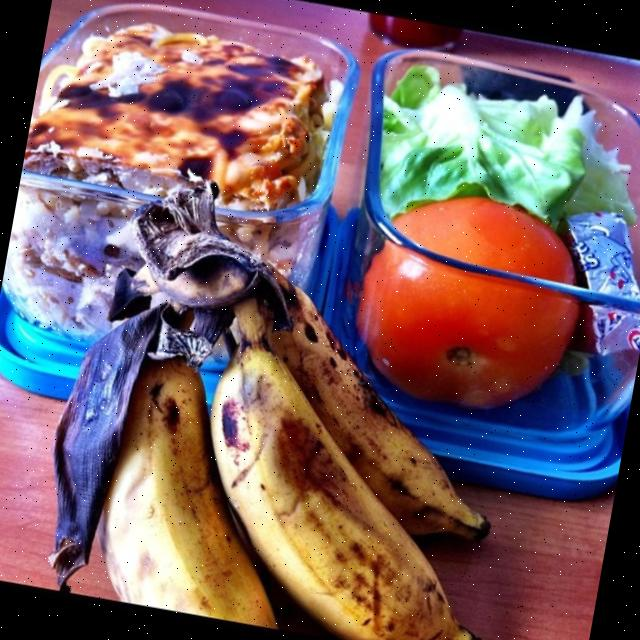banana: (207, 330, 480, 640)
